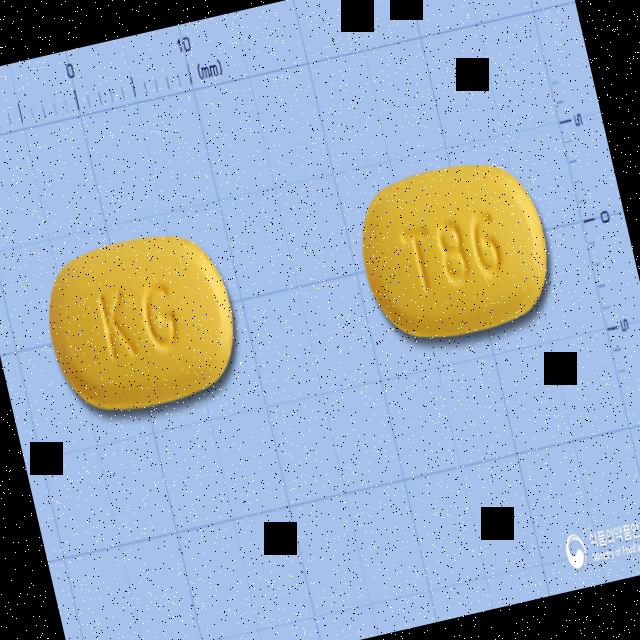Clarin: (30, 216, 254, 432), (345, 142, 566, 360)
